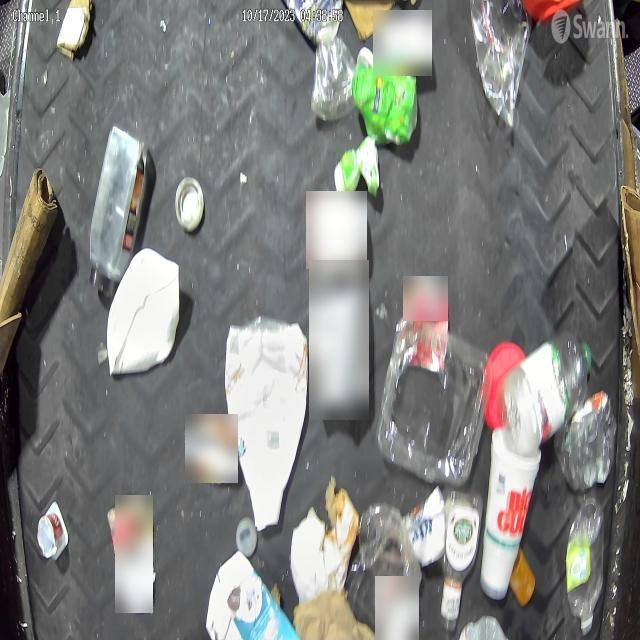milk_jug: (106, 248, 180, 376)
plastic_bottle: (565, 496, 605, 634)
